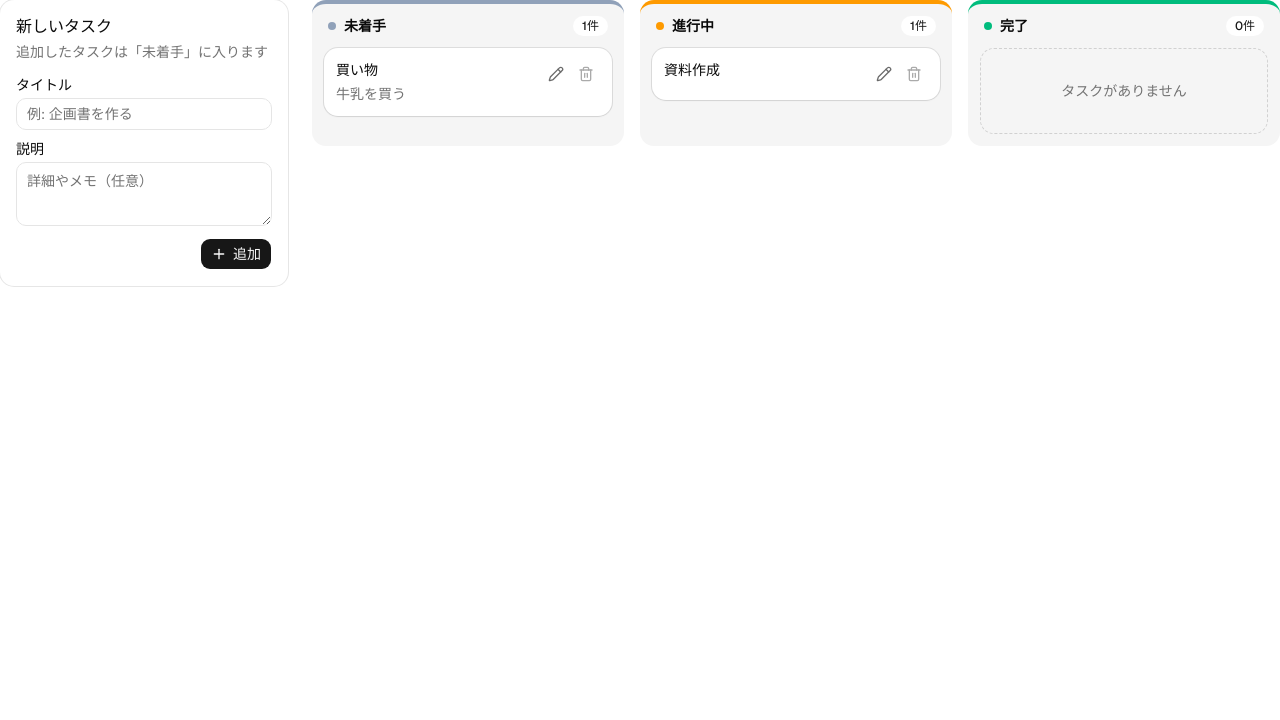
Scenario: 削除 › 削除ボタンを押すと確認ダイアログが表示され、まだ削除されない
Check: the heading "買い物" is shown, box [336,61,378,79]
Click the button named "「買い物」を削除": (586, 74) [572,60,600,88]
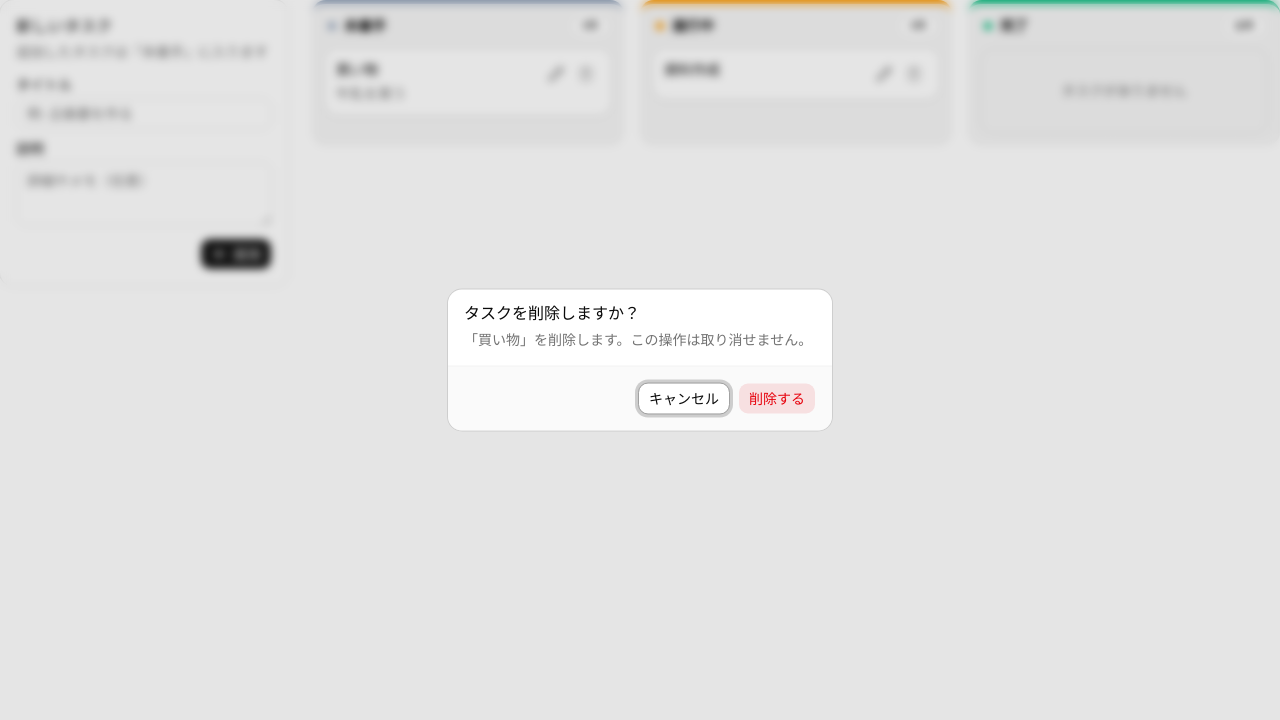
Check: the text "「買い物」を削除します。この操作は取り消せません。" is shown, box [464,330,816,350]
